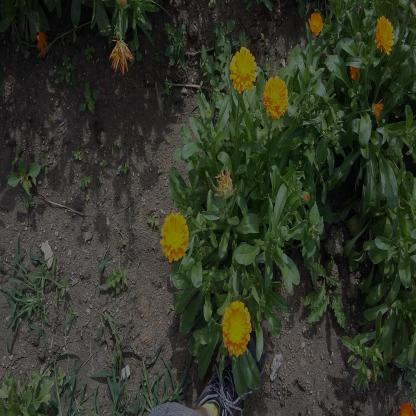marigold: (223, 302, 250, 355), (161, 214, 188, 258), (230, 48, 258, 90), (263, 74, 288, 117), (376, 15, 394, 55), (309, 12, 323, 34)
